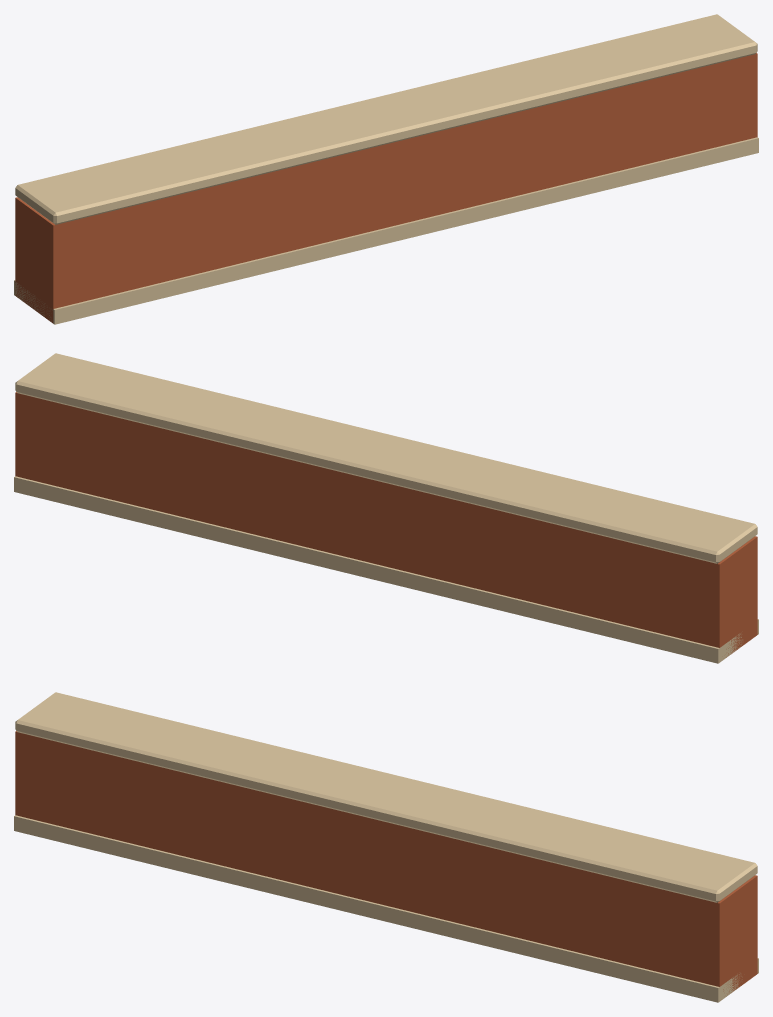
Rendered from low_wall.glb.
3 renders of one model, top to bottom at view 1: azimuth 30°, elevation 25°; view 2: azimuth 150°, elevation 25°; view 3: azimuth 330°, elevation 25°, orthographic.
Parts seen in each view (by area): view 1: body; view 2: body; view 3: body.
Part boxes in pixels (bbox=[...]): body: bbox=[14, 14, 758, 324]; body: bbox=[14, 353, 758, 663]; body: bbox=[14, 692, 758, 1002].
Bounding box in the file's own units: 3 × 0.45 × 0.3.
